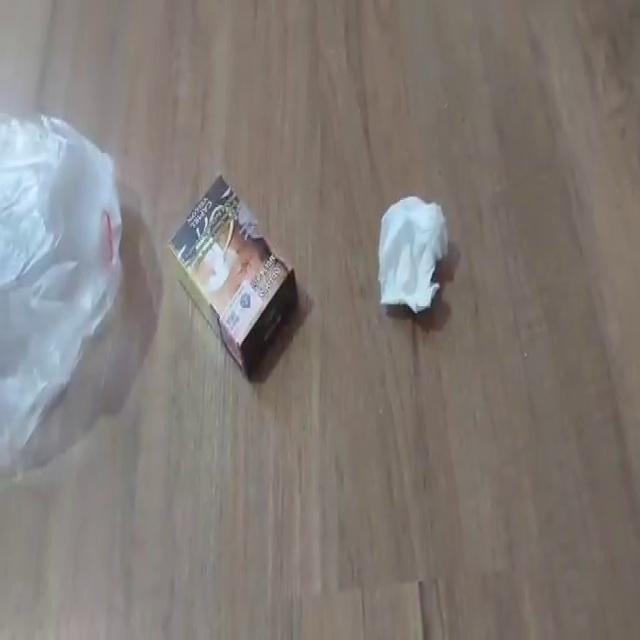Anorganik: (1, 103, 129, 480)
Organik: (167, 169, 302, 384), (375, 188, 451, 323)
